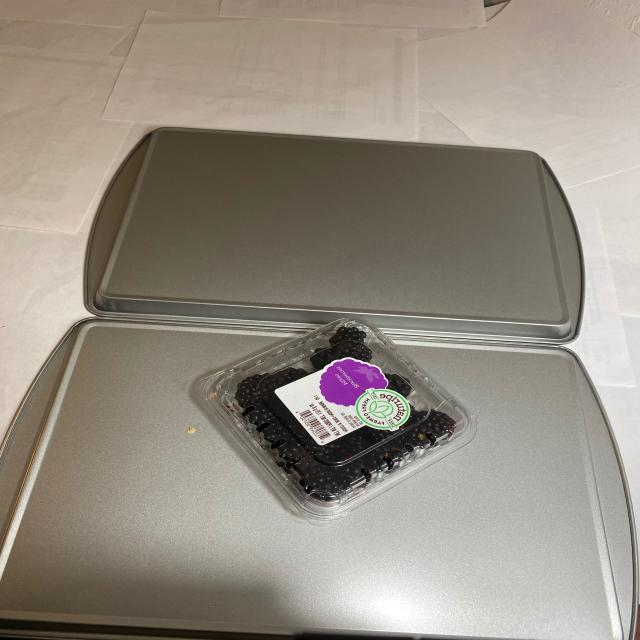blackberries: (214, 312, 453, 501)
